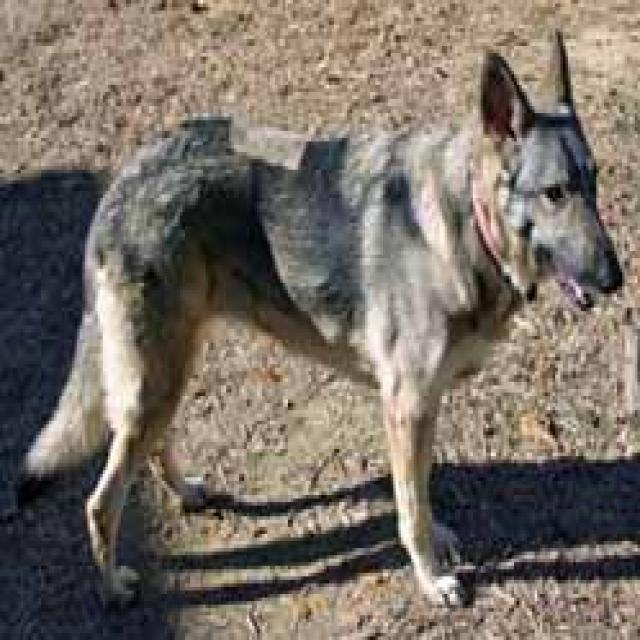dog: (11, 27, 628, 640)
